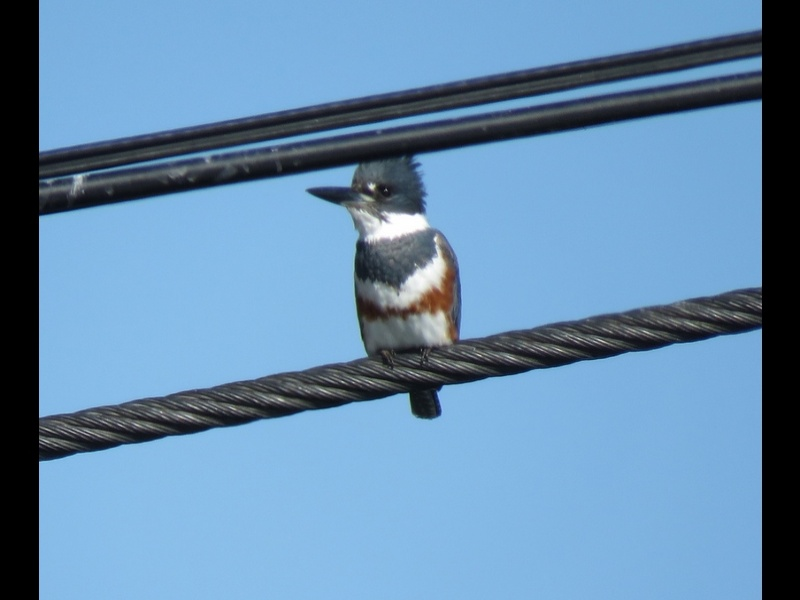kingfisher: (297, 135, 487, 430)
